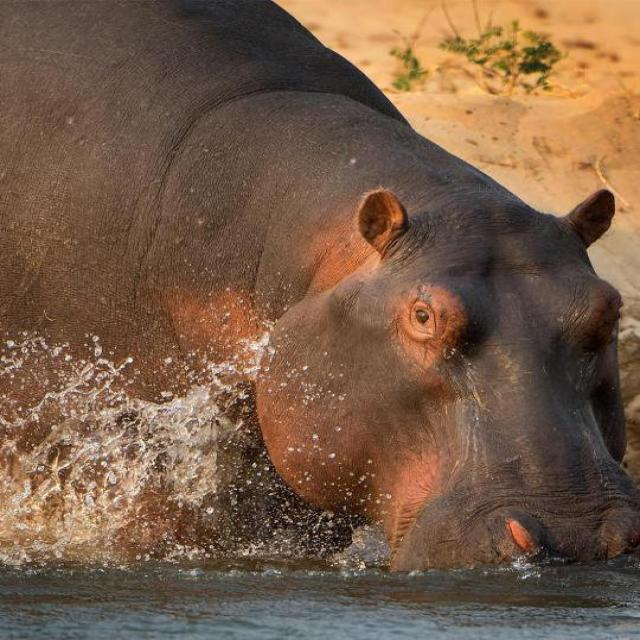Hippopotamus: (0, 1, 630, 584)
